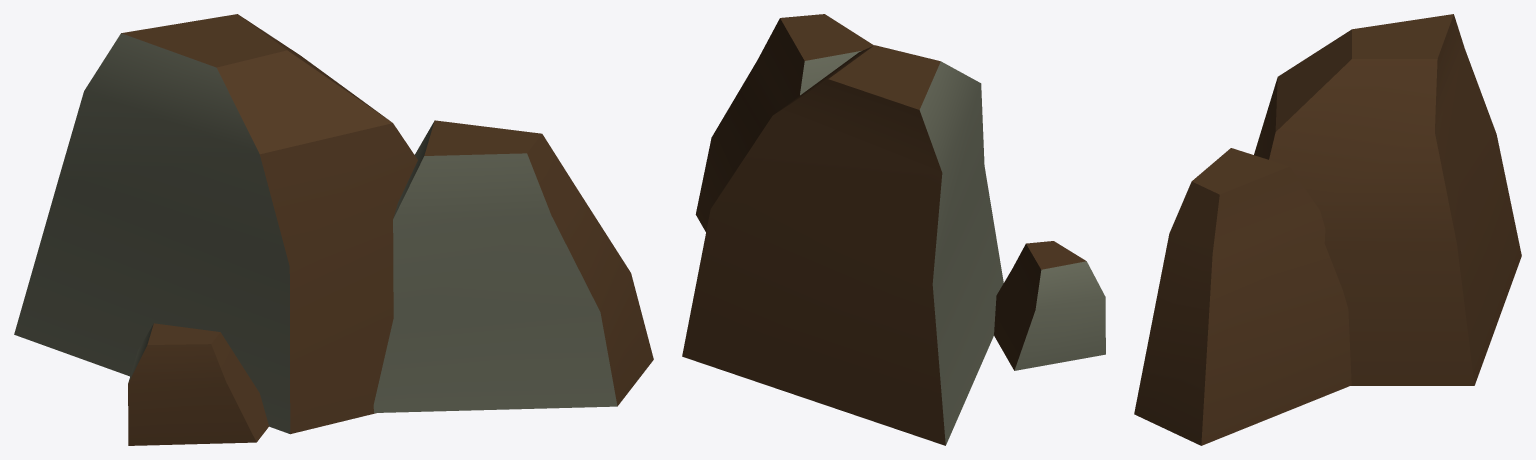
Rendered from rocks1.fbx.
The picture shows the model from 3 angles, left to right: view 1: azimuth 30°, elevation 25°; view 2: azimuth 150°, elevation 25°; view 3: azimuth 270°, elevation 25°; orthographic projection. The views are drawn at different scales.
Parts seen in each view (by area): view 1: rocks.001; view 2: rocks.001; view 3: rocks.001.
Part boxes in pixels (<box>): rocks.001: <box>14,14,653,445</box>; rocks.001: <box>682,14,1105,445</box>; rocks.001: <box>1134,14,1521,445</box>.
Bounding box in the file's own units: 169 × 105 × 137.
